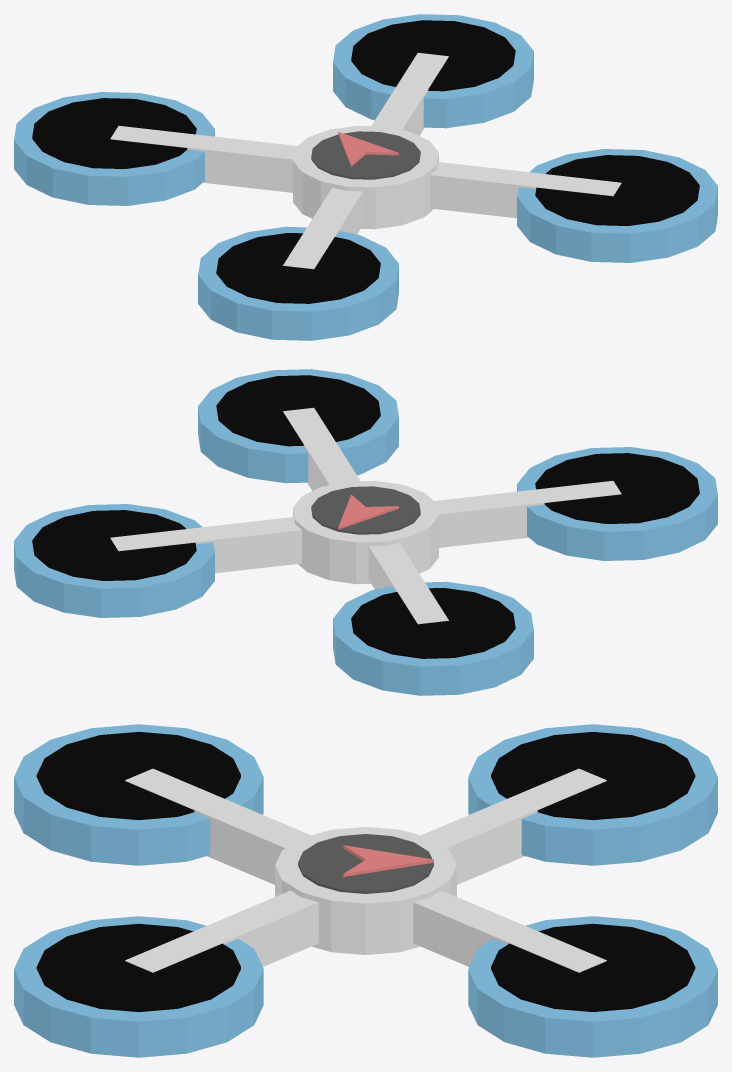
Rendered from drone.glb.
The picture shows the model from 3 angles, top to bottom: view 1: azimuth 30°, elevation 25°; view 2: azimuth 150°, elevation 25°; view 3: azimuth 270°, elevation 25°; orthographic projection. The views are drawn at different scales.
Bounding box in the file's own units: 0.558 × 0.055 × 0.558.
